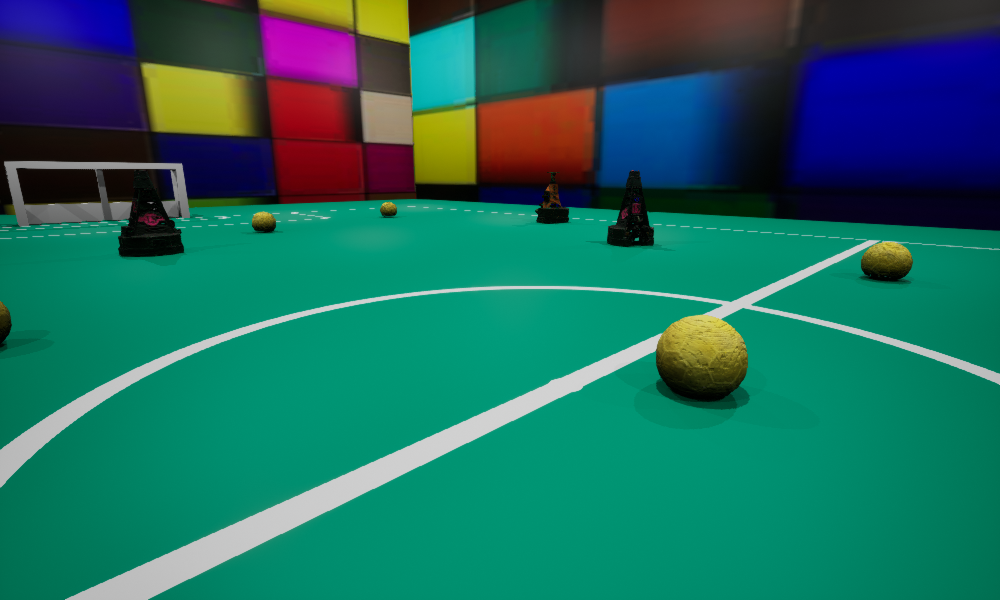b: (656, 315, 747, 399), (861, 242, 912, 280), (0, 301, 11, 343), (252, 211, 275, 230), (380, 202, 396, 216)
o: (535, 172, 568, 223)
p1: (118, 170, 183, 256), (607, 170, 653, 246)
